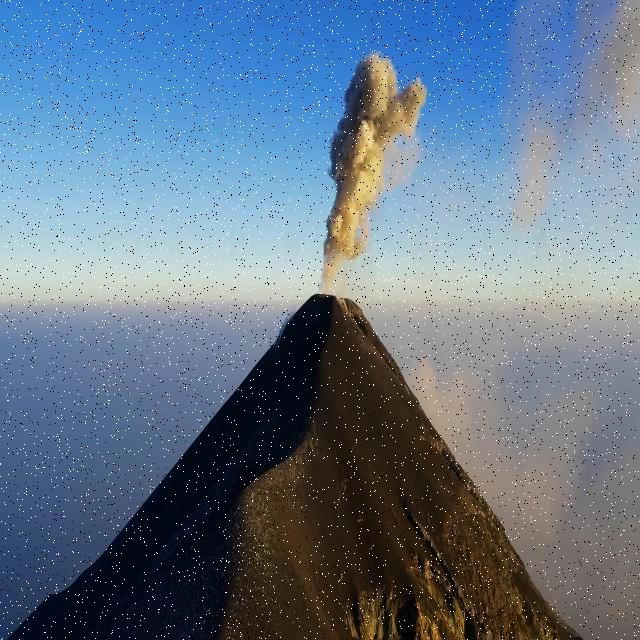Plume: (293, 51, 437, 292)
Summit: (152, 280, 463, 484)
